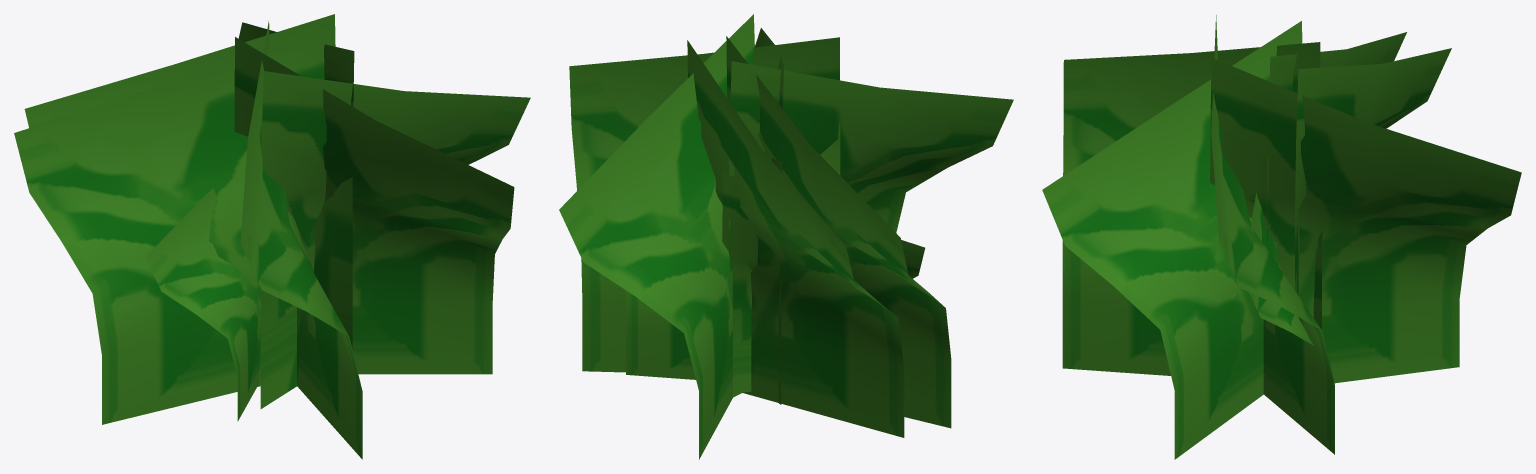
The model's file is Trawikrzak.fbx.
The picture shows the model from 3 angles, left to right: view 1: azimuth 30°, elevation 25°; view 2: azimuth 150°, elevation 25°; view 3: azimuth 270°, elevation 25°; orthographic projection.
Parts seen in each view (by area): view 1: Plane.011; view 2: Plane.011; view 3: Plane.011.
Part boxes in pixels (<box>): Plane.011: <box>14,14,530,459</box>; Plane.011: <box>559,14,1013,459</box>; Plane.011: <box>1042,15,1521,459</box>.
Bounding box in the file's own units: 190 × 145 × 184.
Materials: 1 (1 with a texture image).
